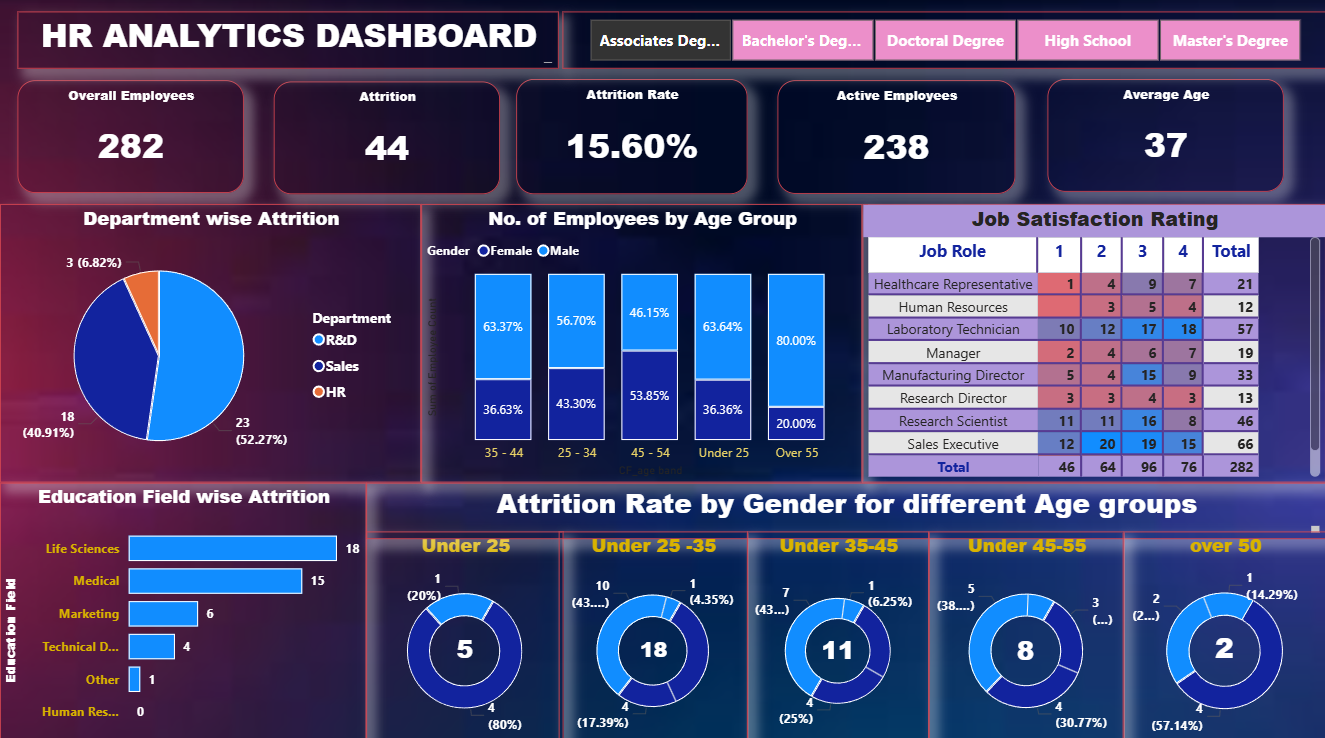

The page's visual inventory and layout, read from the dashboard file:
{"tool":"powerbi","page":{"name":"Page 1","canvas":[1280,720],"ordinal":0},"visuals":[{"type":"card","title":"Overall Employees","fields":{"Values":["Sum(Table_1.Employee Count)"]},"box":[16.9,78.4,218.4,108.6],"z":0},{"type":"card","title":"Attrition","fields":{"Values":["Sum(Table_1.Attrition Count)"]},"box":[264.2,79.6,218.4,108.6],"z":1000},{"type":"card","title":"Attrition Rate ","fields":{"Values":["Table_1.Attrition Rate"]},"box":[498.3,77.2,223.2,111],"z":2000},{"type":"card","title":"Active Employees","fields":{"Values":["Table_1.Active Employees"]},"box":[750.4,78.4,229.2,109.8],"z":3000},{"type":"card","title":"Average Age","fields":{"Values":["Avg(Table_1.Age)"]},"box":[1011,77.2,228,108.6],"z":4000},{"type":"pieChart","title":"Department wise Attrition","fields":{"Category":["Table_1.Department"],"Y":["Sum(Table_1.Attrition Count)"]},"box":[0,197.9,406.6,269],"z":5000},{"type":"hundredPercentStackedColumnChart","title":"No. of Employees by Age Group","fields":{"Category":["Table_1.CF_age band"],"Y":["Sum(Table_1.Employee Count)"],"Series":["Table_1.Gender"]},"box":[406.6,197.9,425.9,269],"z":6000},{"type":"pivotTable","title":"Job Satisfaction Rating","fields":{"Rows":["Table_1.Job Role"],"Columns":["Table_1.Job Satisfaction"],"Values":["Sum(Table_1.Employee Count)"]},"box":[832.4,197.9,447.6,269],"z":7000},{"type":"barChart","title":"Education Field wise Attrition","fields":{"Category":["Table_1.Education Field"],"Y":["Sum(Table_1.Attrition Count)"]},"box":[0,466.9,353.5,253.4],"z":8000},{"type":"donutChart","title":"Under 25","fields":{"Category":["Table_1.Gender"],"Y":["Sum(Table_1.Attrition Count)"],"Series":["Table_1.CF_age band"]},"box":[353.5,513.9,190.6,206.3],"z":9000},{"type":"textbox","title":"Attrition Rate by Gender for different Age groups","box":[353.5,466.9,926.5,54.3],"z":10000},{"type":"donutChart","title":"Under 35-45","fields":{"Category":["Table_1.Gender"],"Y":["Sum(Table_1.Attrition Count)"],"Series":["Table_1.CF_age band"]},"box":[721.5,513.9,174.9,206.3],"z":11000},{"type":"donutChart","title":"Under 25 -35","fields":{"Category":["Table_1.Gender"],"Y":["Sum(Table_1.Attrition Count)"],"Series":["Table_1.CF_age band"]},"box":[539.3,513.9,182.2,206.3],"z":12000},{"type":"donutChart","title":"over 50","fields":{"Category":["Table_1.Gender"],"Y":["Sum(Table_1.Attrition Count)"],"Series":["Table_1.CF_age band"]},"box":[1084.6,513.9,195.4,206.3],"z":13000},{"type":"donutChart","title":"Under 45-55","fields":{"Category":["Table_1.Gender"],"Y":["Sum(Table_1.Attrition Count)"],"Series":["Table_1.CF_age band"]},"box":[896.4,513.9,188.2,206.3],"z":14000},{"type":"card","fields":{"Values":["Sum(Table_1.Attrition Count)"]},"box":[417.4,599.6,62.7,57.9],"z":15000},{"type":"card","fields":{"Values":["Sum(Table_1.Attrition Count)"]},"box":[596,599.6,70,59.1],"z":16000},{"type":"card","fields":{"Values":["Sum(Table_1.Attrition Count)"]},"box":[951.9,593.6,76,72.4],"z":17000},{"type":"card","fields":{"Values":["Sum(Table_1.Attrition Count)"]},"box":[1149.7,593.6,63.9,67.6],"z":18000},{"type":"card","fields":{"Values":["Sum(Table_1.Attrition Count)"]},"box":[764.9,610.5,88.1,37.4],"z":19000},{"type":"textbox","title":"HR ANALYTICS DASHBOARD","box":[16.9,12.1,522.4,55.5],"z":20000},{"type":"slicer","fields":{"Values":["Table_1.Education"]},"box":[542.9,12.1,737.1,55.5],"z":21000}]}

Visuals, with their boxes in screenshot pixels (x1, y1, x2, y2), scaled from the page's 1280x720 canvas onto the 1325x738 screenshot:
"Overall Employees" card: BBox(17, 80, 244, 192)
"Attrition" card: BBox(273, 82, 500, 193)
"Attrition Rate " card: BBox(516, 79, 747, 193)
"Active Employees" card: BBox(777, 80, 1014, 193)
"Average Age" card: BBox(1047, 79, 1283, 190)
"Department wise Attrition" pieChart: BBox(0, 203, 421, 479)
"No. of Employees by Age Group" hundredPercentStackedColumnChart: BBox(421, 203, 862, 479)
"Job Satisfaction Rating" pivotTable: BBox(862, 203, 1324, 479)
"Education Field wise Attrition" barChart: BBox(0, 479, 366, 737)
"Under 25" donutChart: BBox(366, 527, 563, 737)
"Attrition Rate by Gender for different Age groups" textbox: BBox(366, 479, 1324, 534)
"Under 35-45" donutChart: BBox(747, 527, 928, 737)
"Under 25 -35" donutChart: BBox(558, 527, 747, 737)
"over 50" donutChart: BBox(1123, 527, 1324, 737)
"Under 45-55" donutChart: BBox(928, 527, 1123, 737)
card - Sum(Table_1.Attrition Count): BBox(432, 615, 497, 674)
card - Sum(Table_1.Attrition Count): BBox(617, 615, 689, 675)
card - Sum(Table_1.Attrition Count): BBox(985, 608, 1064, 683)
card - Sum(Table_1.Attrition Count): BBox(1190, 608, 1256, 678)
card - Sum(Table_1.Attrition Count): BBox(792, 626, 883, 664)
"HR ANALYTICS DASHBOARD" textbox: BBox(17, 12, 558, 69)
slicer - Table_1.Education: BBox(562, 12, 1324, 69)
